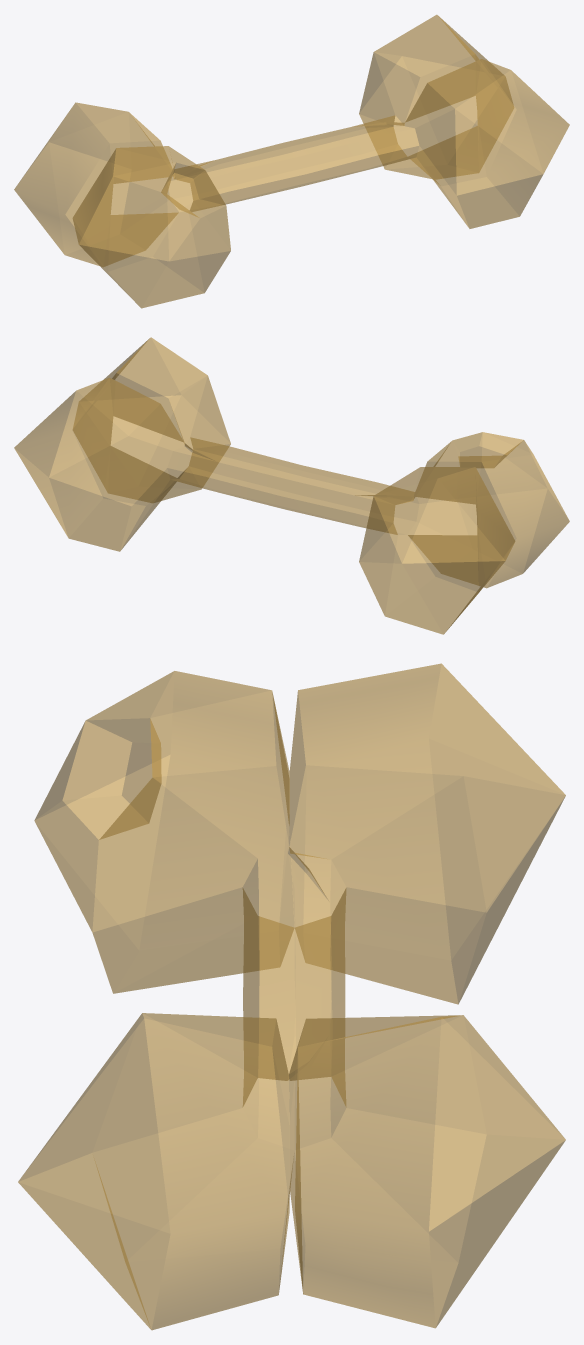
The picture shows the model from 3 angles, top to bottom: view 1: azimuth 30°, elevation 25°; view 2: azimuth 150°, elevation 25°; view 3: azimuth 270°, elevation 25°; orthographic projection. The views are drawn at different scales.
Visible parts, largest first — view 1: 对象001; view 2: 对象001; view 3: 对象001.
Part boxes in pixels (x1,y1,x2,y2): 对象001: (14,15,569,308); 对象001: (14,337,569,634); 对象001: (18,663,565,1330).
Bounding box in the file's own units: 98.29 × 29.15 × 47.46.
